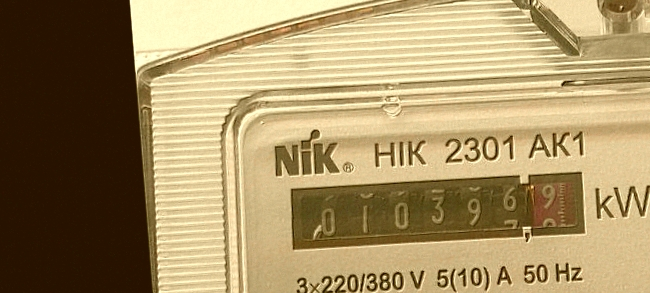0: (388, 197, 413, 232), (316, 203, 338, 238)
1: (356, 200, 372, 234)
3: (427, 193, 448, 227)
6: (498, 183, 521, 213)
9: (461, 194, 484, 228), (535, 181, 559, 212)
screen: (272, 152, 598, 271)
